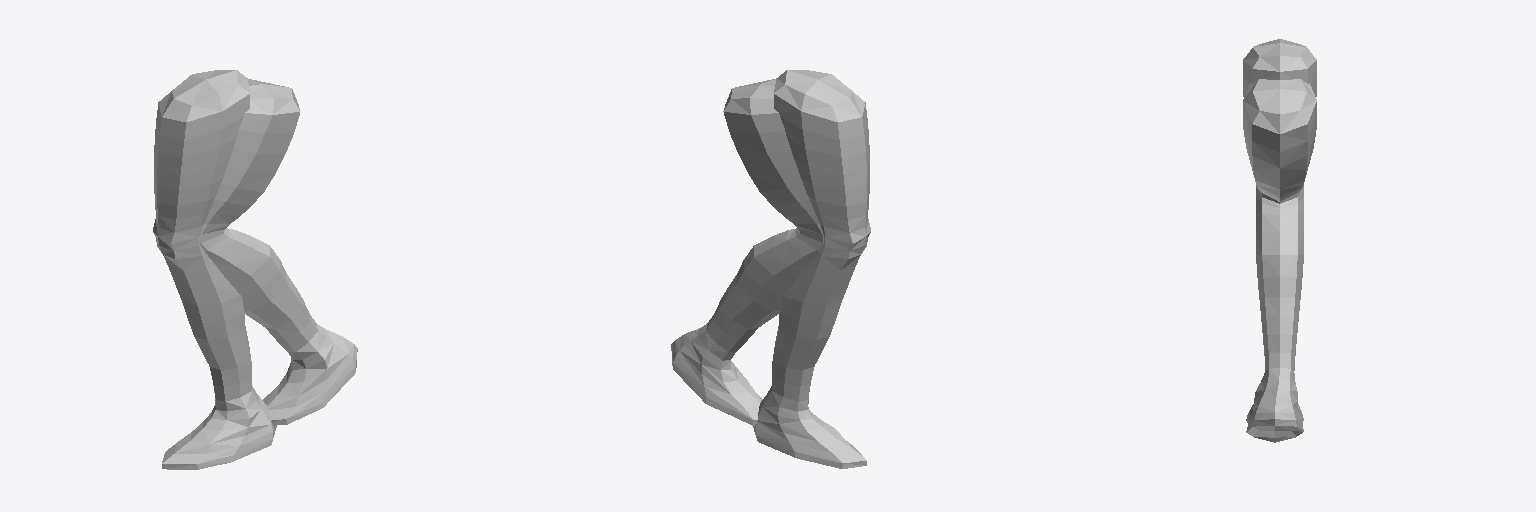
Rendered from leg-shape-keys.obj.
3 views of the same model, side by side, from view 1: azimuth 30°, elevation 25°; view 2: azimuth 150°, elevation 25°; view 3: azimuth 270°, elevation 25° (orthographic).
Parts seen in each view (by area): view 1: Cube.002, Cube; view 2: Cube.002, Cube; view 3: Cube, Cube.002.
Boxes of the visible parts, <box> form: Cube.002: <box>153,70,276,469</box>; Cube: <box>200,78,357,425</box>; Cube.002: <box>753,70,870,468</box>; Cube: <box>671,78,823,425</box>; Cube: <box>1243,79,1316,437</box>; Cube.002: <box>1243,39,1316,442</box>.
Bounding box in the file's own units: 11.89 × 21.83 × 3.89.